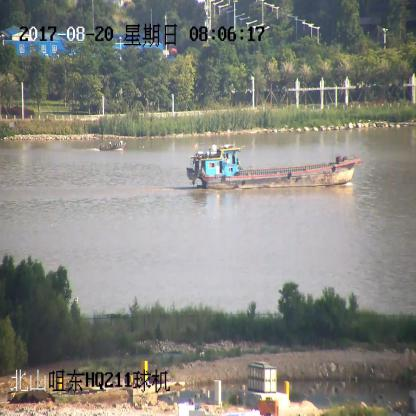Fishing Boat: (186, 145, 361, 189), (100, 140, 125, 151)
